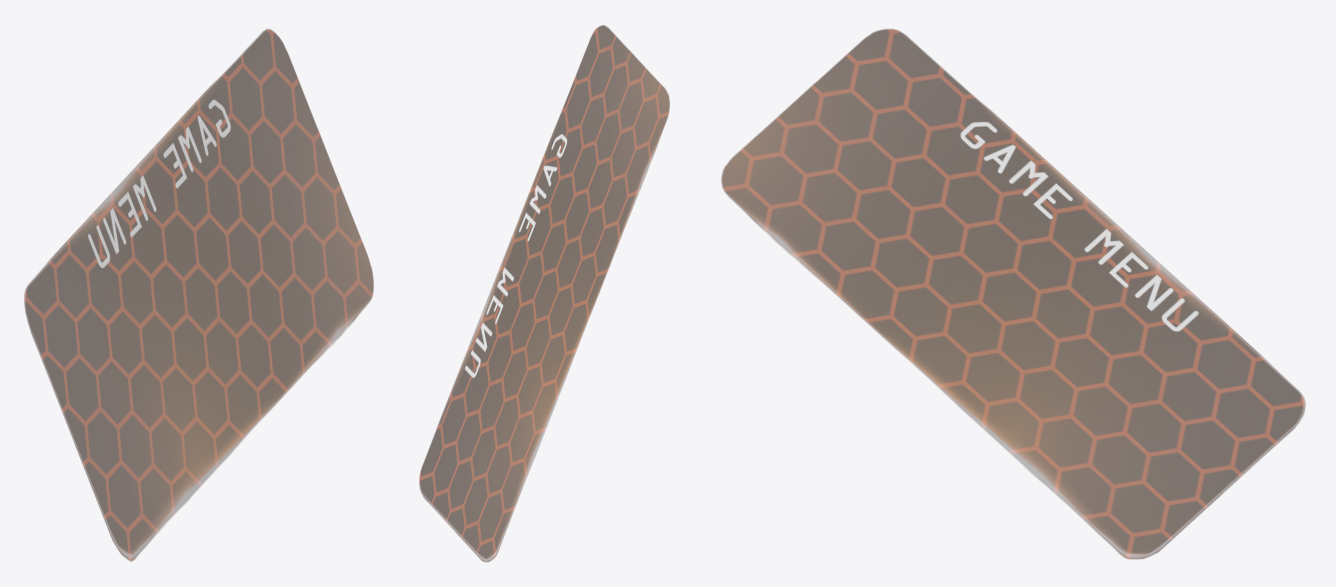
The model's file is menu.glb.
3 renders of one model, left to right at view 1: azimuth 30°, elevation 25°; view 2: azimuth 150°, elevation 25°; view 3: azimuth 270°, elevation 25°, orthographic. The views are drawn at different scales.
Parts seen in each view (by area): view 1: Menu export positioned; view 2: Menu export positioned; view 3: Menu export positioned.
Boxes of the visible parts, bbox=[...] form: Menu export positioned: bbox=[24, 29, 373, 561]; Menu export positioned: bbox=[419, 25, 669, 562]; Menu export positioned: bbox=[721, 29, 1305, 559].
Size of the model in its own units: 0 by 0.4459 by 0.4459.
1 material, 1 textured.
